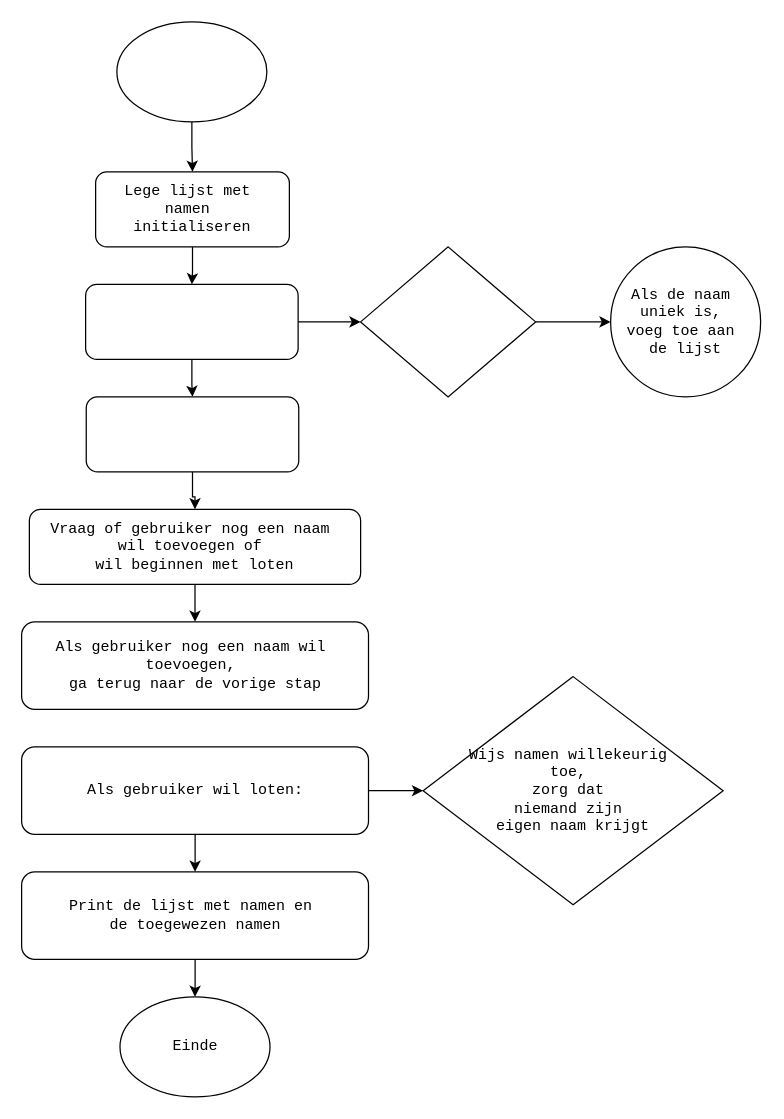
This 784x1119 diagram has some shape labels left out. The centre of each missing label's shape, as x and y in pixels:
"Als lijst 3 of meer namen heeft:" goes at pixel 192 434.
"Begin" goes at pixel 191 71.
"Vraag om een nieuwe naam" goes at pixel 447 321.
"Zolang lijst minder dan 3 namen heeft:" goes at pixel 191 321.
